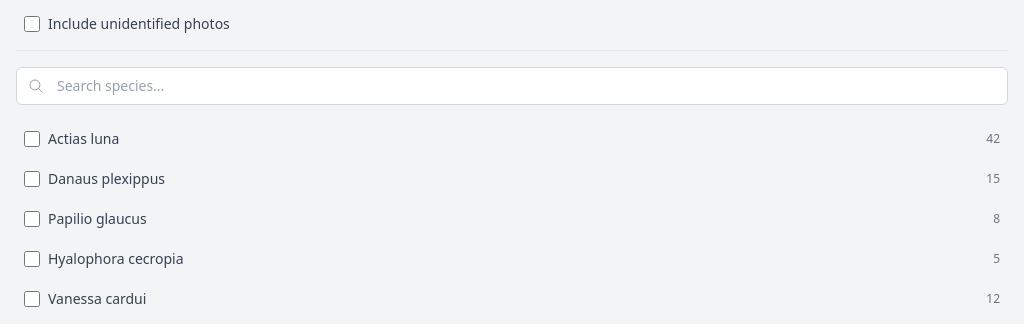
Test case: SpeciesFilter › Search Functionality › clears search when clear button clicked
Expected: the text "Actias luna" is shown, [48,129,119,148]
Type "luna" into the field with placeholder "Search species...".
click(512, 86); type("luna")  # box [16,67,1008,105]
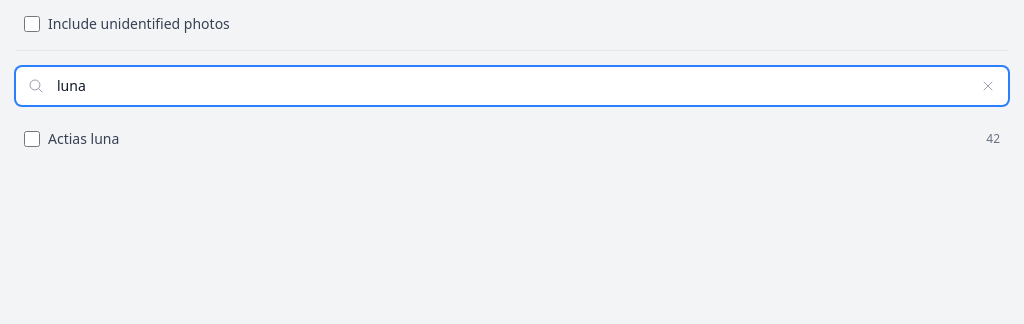
Expected: the button named "clear search" is shown
Click the button named "clear search".
click(994, 86)  # box [980,67,1008,105]
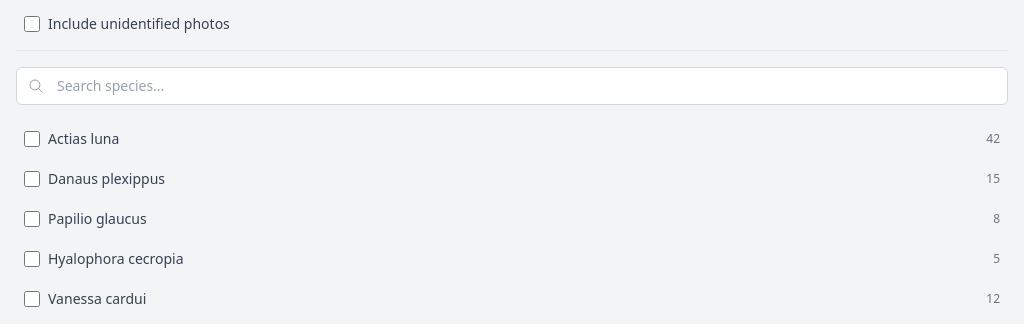
Expected: the field with placeholder "Search species..." is empty, [16,67,1008,105]
